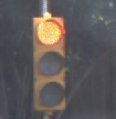Red: (29, 14, 72, 114)
